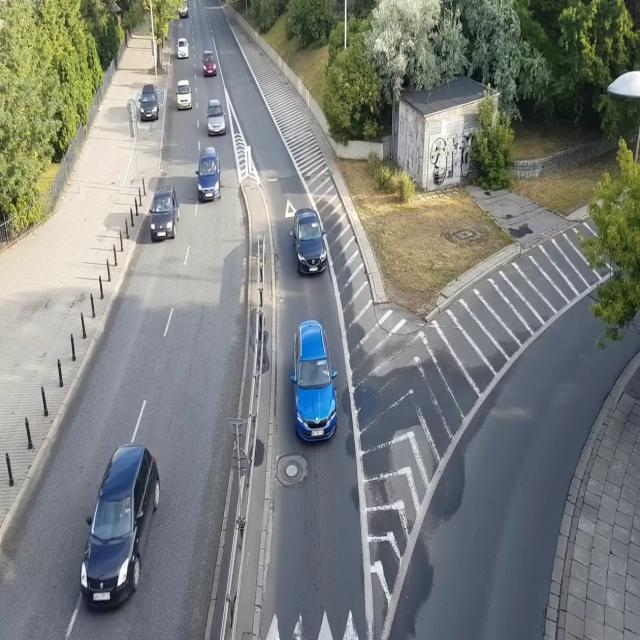car: (78, 443, 162, 614), (290, 319, 338, 441), (291, 208, 328, 275), (148, 185, 180, 244), (195, 146, 222, 204), (138, 84, 160, 122), (206, 98, 226, 136), (176, 79, 192, 110), (202, 50, 218, 77), (176, 37, 189, 60), (177, 0, 189, 18)
